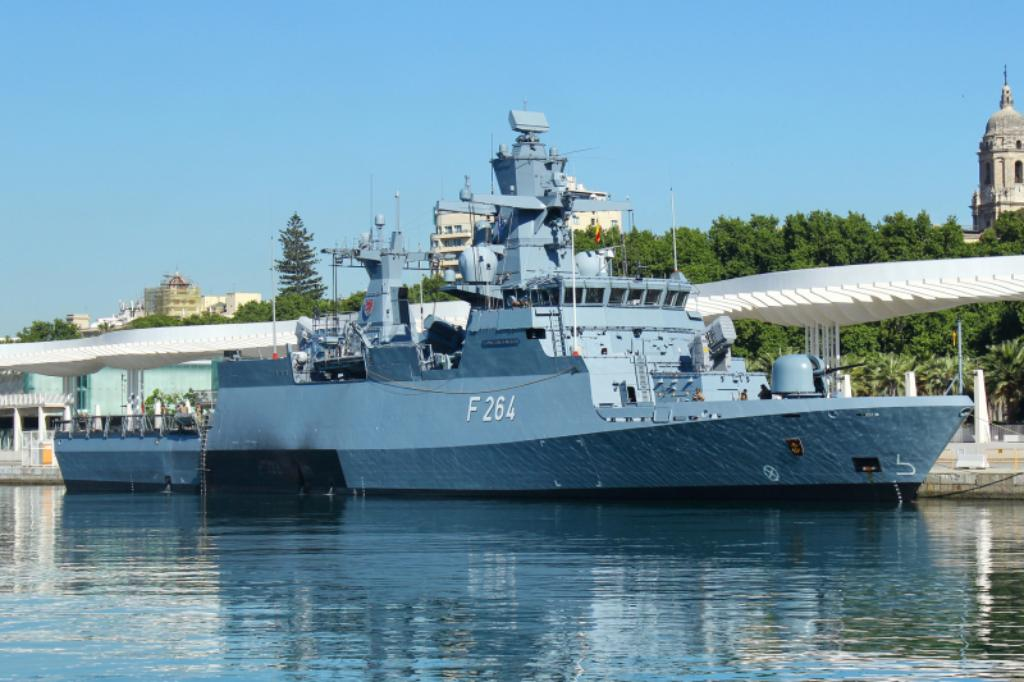Warship: (48, 102, 974, 508)
